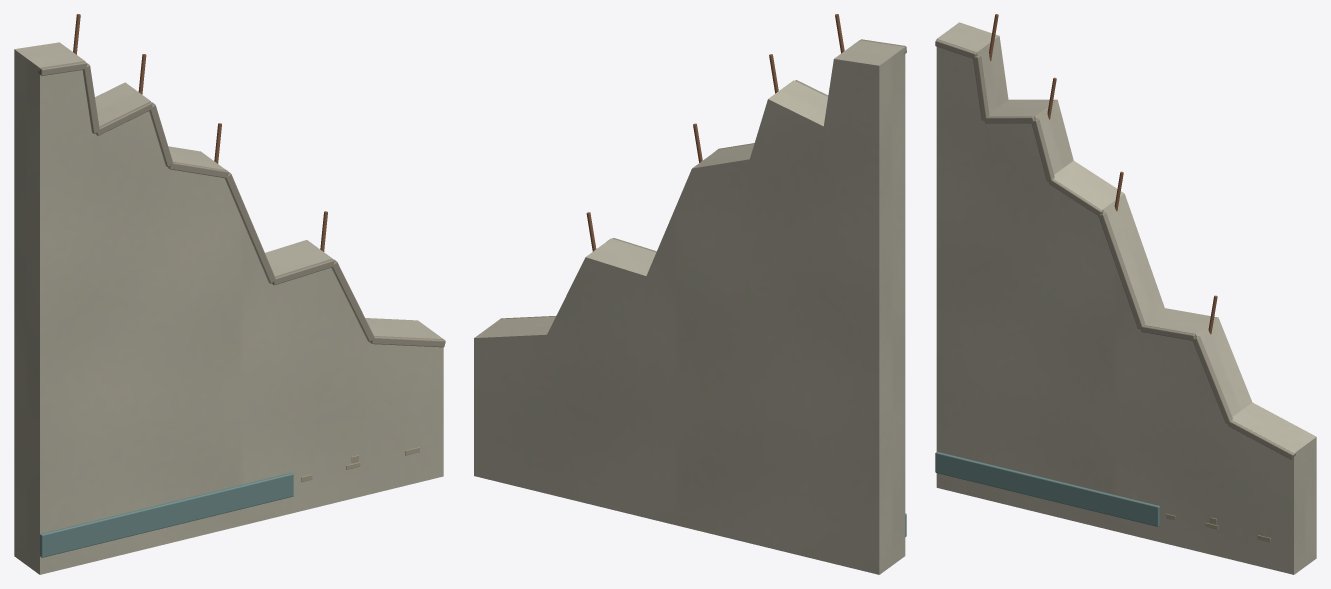
The model's file is Wall_Eroded_Tall.glb.
3 views of the same model, side by side, from view 1: azimuth 30°, elevation 25°; view 2: azimuth 150°, elevation 25°; view 3: azimuth 330°, elevation 25° (orthographic). The views are drawn at different scales.
Parts seen in each view (by area): view 1: Wall_Eroded_Tall; view 2: Wall_Eroded_Tall; view 3: Wall_Eroded_Tall.
Part boxes in pixels (x1,y1,x2,y2): Wall_Eroded_Tall: (14,14,445,574); Wall_Eroded_Tall: (474,14,906,574); Wall_Eroded_Tall: (935,14,1316,574).
Size of the model in its own units: 4.01 by 5.08 by 0.4725.
Materials: 5 (4 with a texture image).
